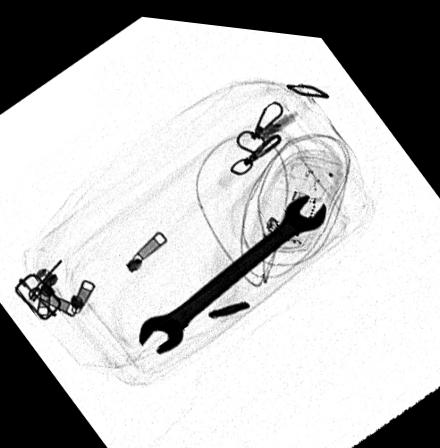Wrench: (48, 145, 258, 201)
